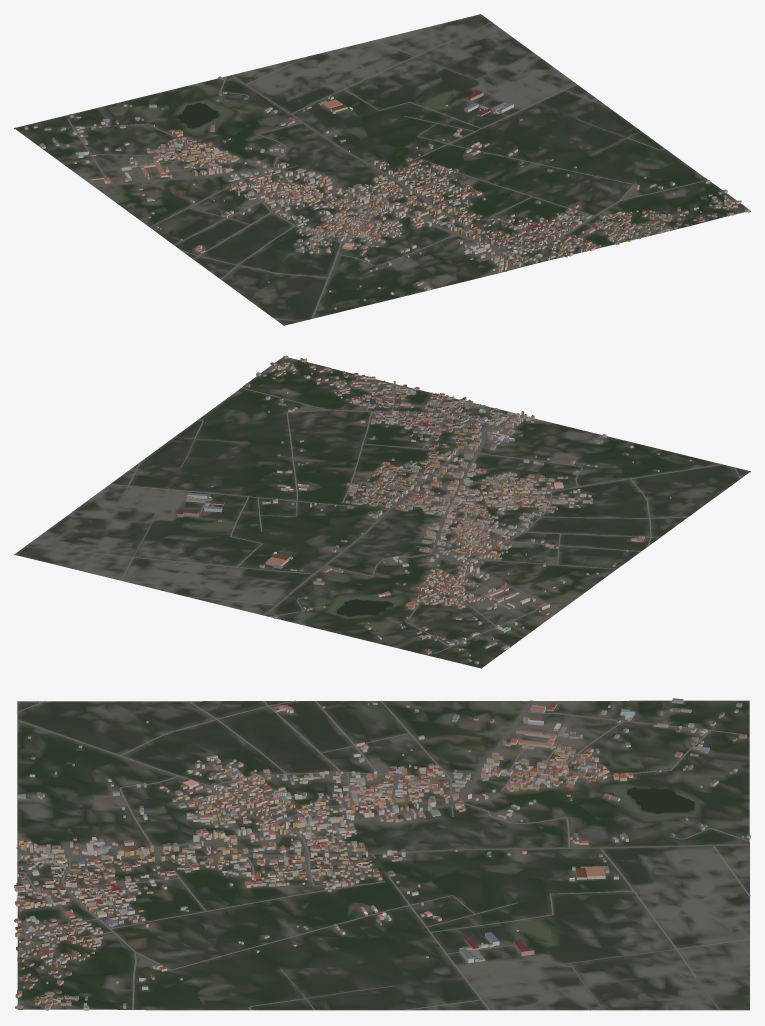
3 renders of one model, top to bottom at view 1: azimuth 30°, elevation 25°; view 2: azimuth 150°, elevation 25°; view 3: azimuth 270°, elevation 25°, orthographic. The views are drawn at different scales.
Parts seen in each view (by area): view 1: ground, buildings, roads, water; view 2: ground, buildings, roads, water; view 3: ground, buildings, roads, water.
Part boxes in pixels (x1=…): ground: x1=14, y1=14, x2=750, y2=325; buildings: x1=24, y1=76, x2=749, y2=309; roads: x1=67, y1=22, x2=707, y2=321; water: x1=177, y1=103, x2=219, y2=128; ground: x1=14, y1=357, x2=750, y2=668; buildings: x1=177, y1=355, x2=691, y2=664; roads: x1=25, y1=376, x2=743, y2=653; water: x1=336, y1=599, x2=393, y2=616; ground: x1=17, y1=700, x2=749, y2=1010; buildings: x1=14, y1=698, x2=750, y2=1010; roads: x1=16, y1=700, x2=750, y2=1010; water: x1=627, y1=787, x2=694, y2=813.
Bounding box in the file's own units: 1409 × 22.19 × 1411.
